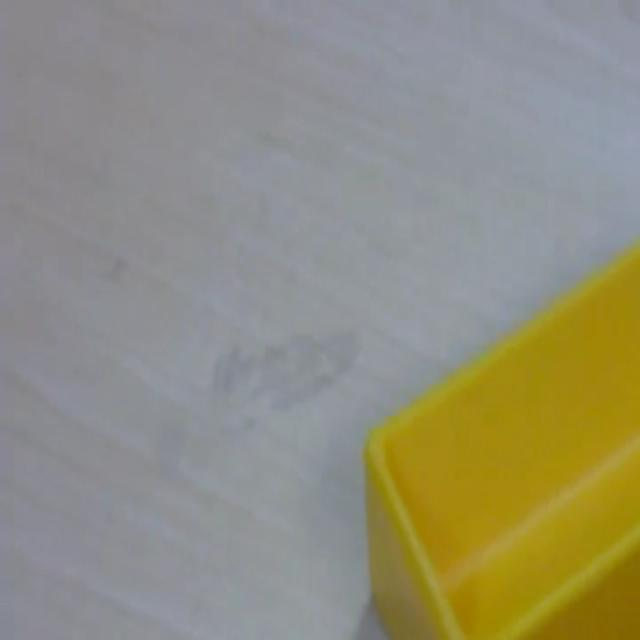yellow_block: (362, 238, 638, 638)
